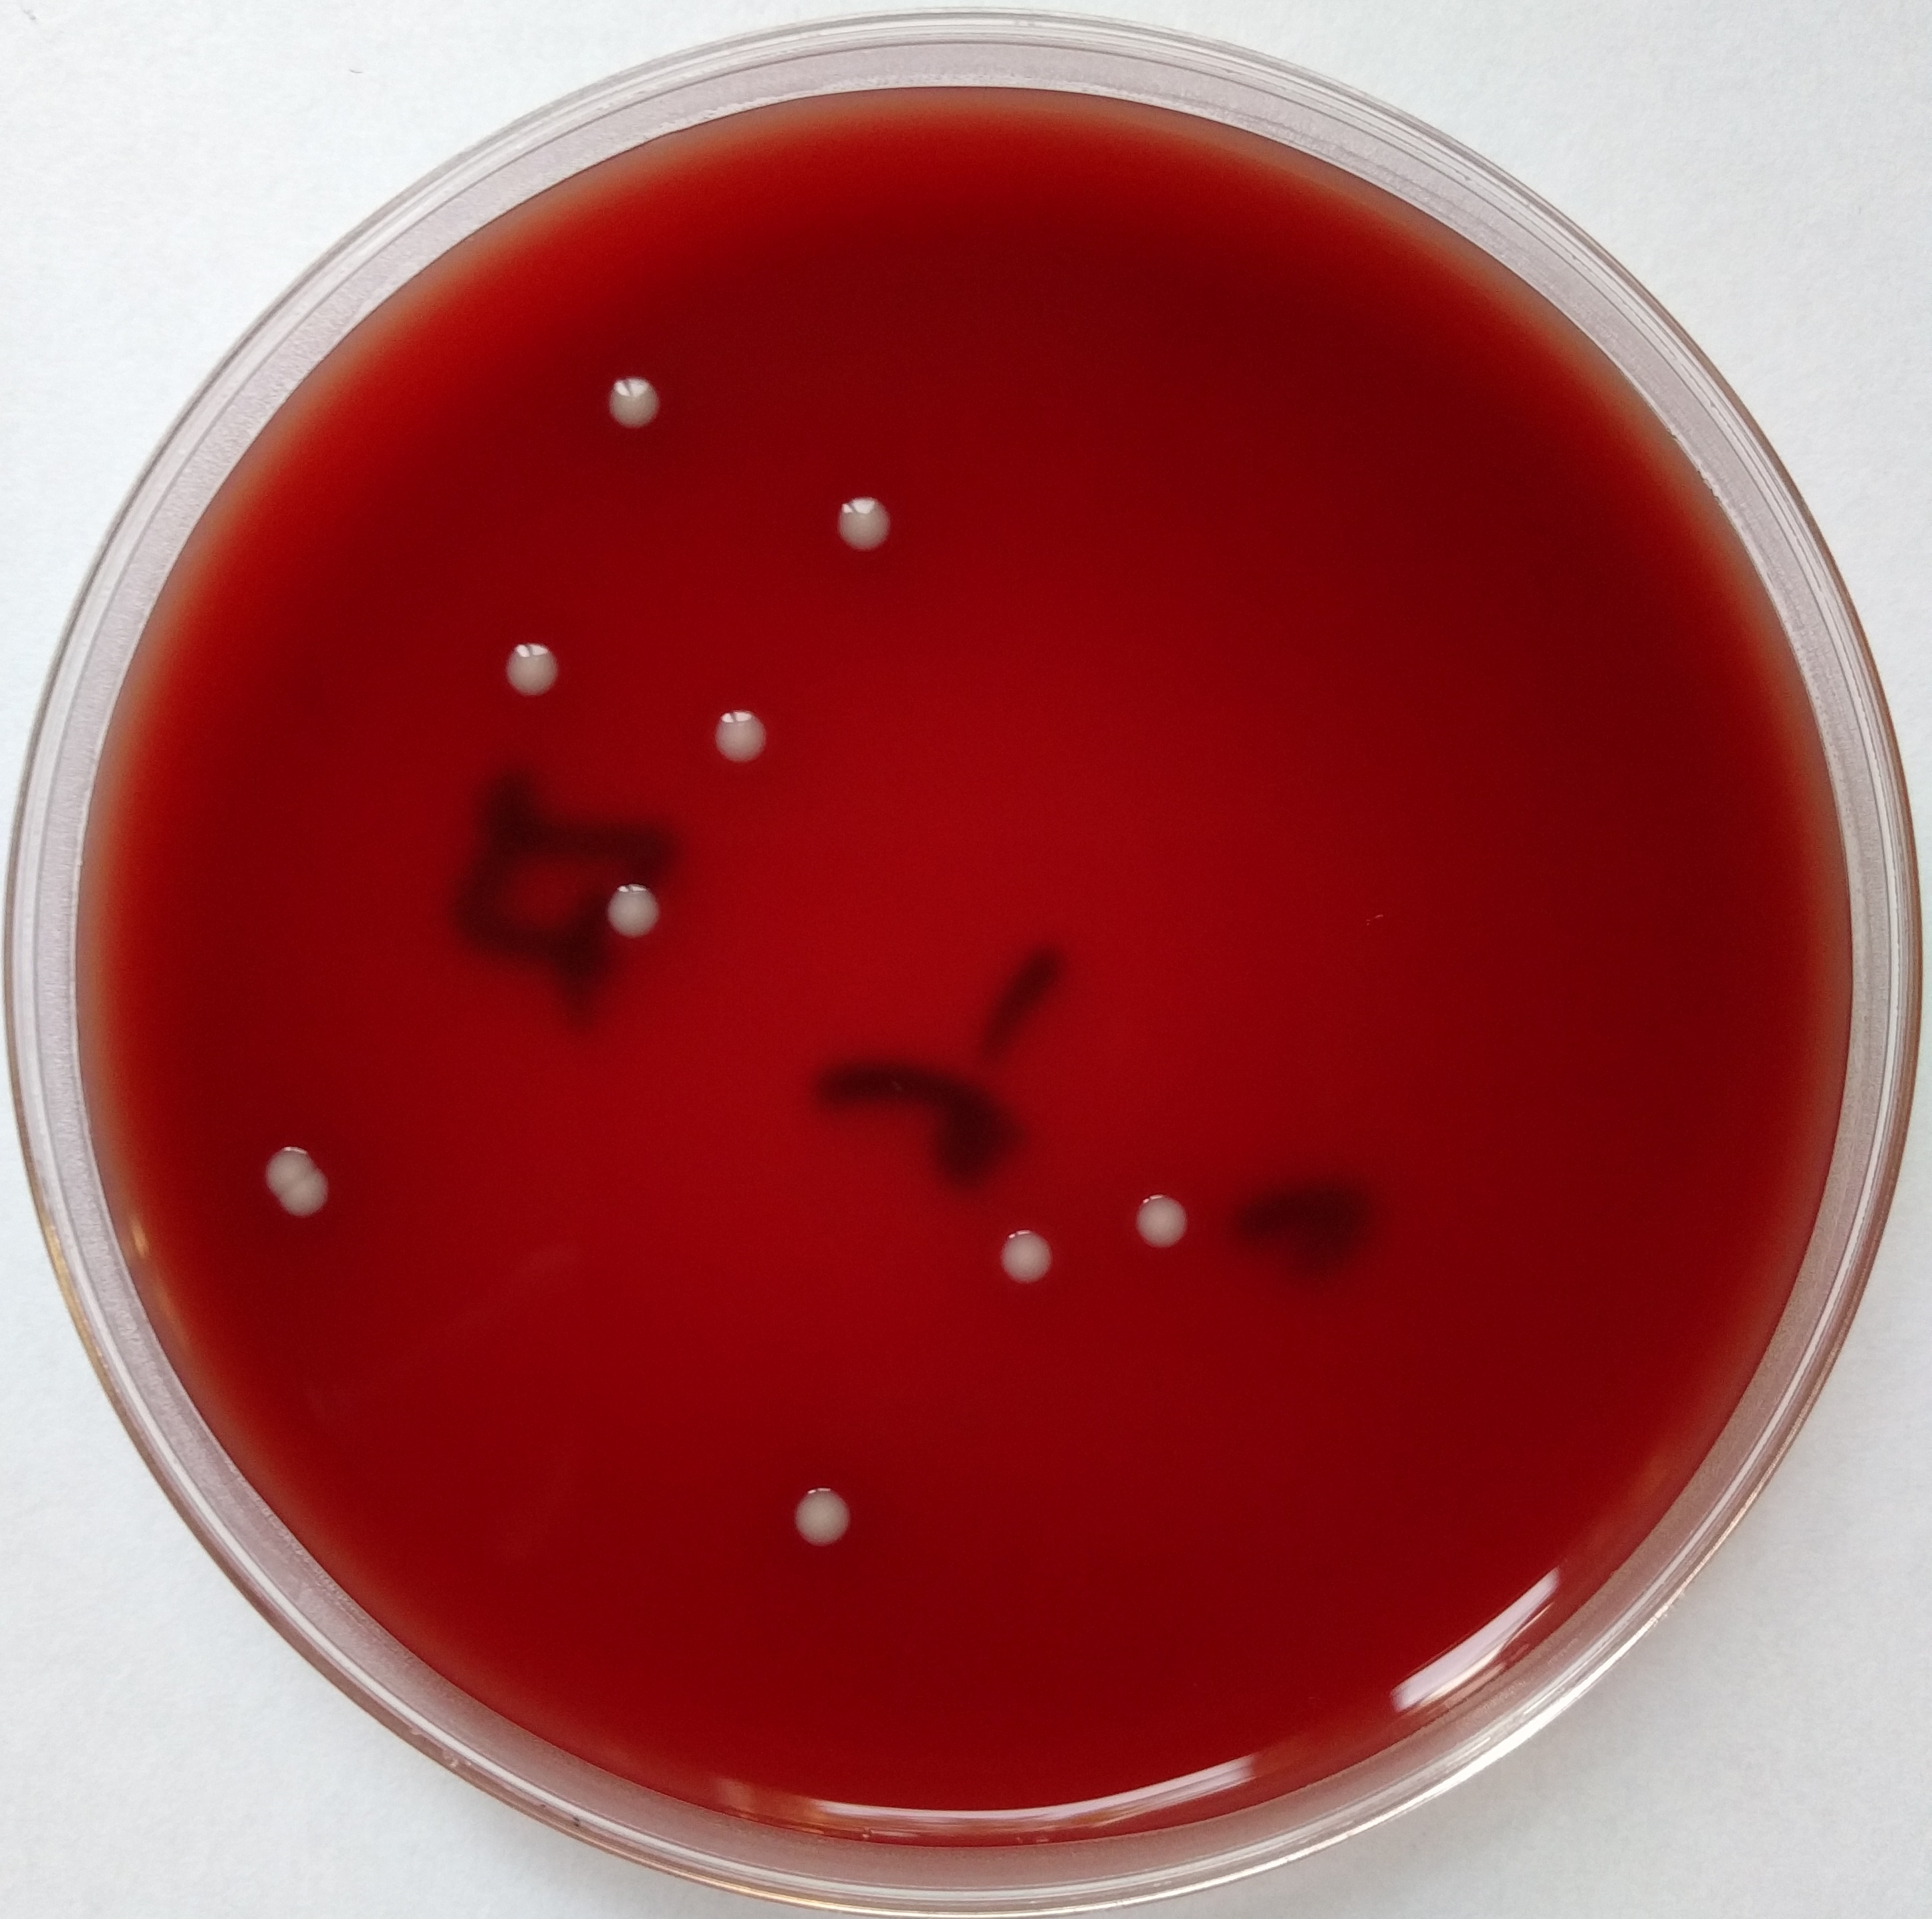sp01: (585, 358, 684, 469), (485, 629, 582, 722), (788, 1457, 868, 1561), (817, 485, 911, 575), (700, 691, 781, 775), (1120, 1181, 1197, 1265), (990, 1213, 1065, 1297), (591, 870, 666, 942), (287, 1174, 332, 1225), (262, 1144, 309, 1190)
